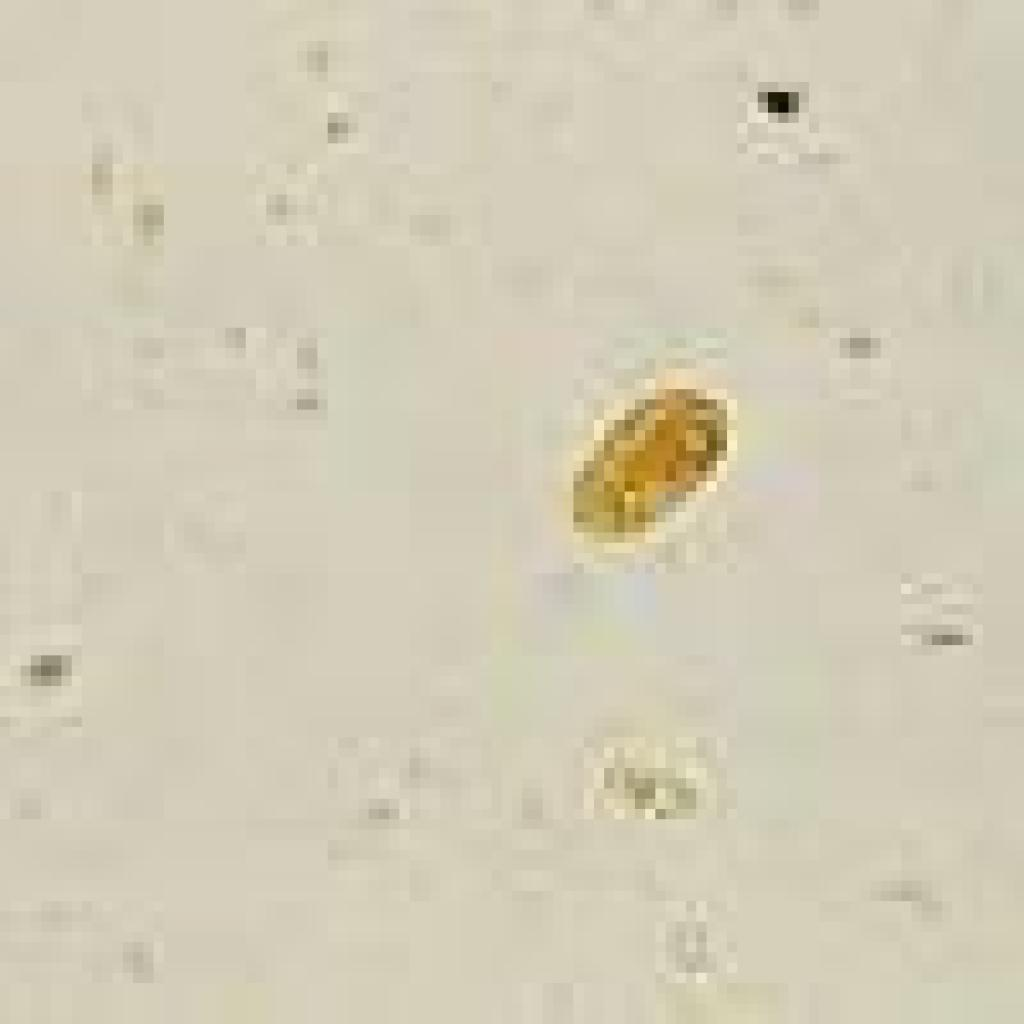Giardia: (553, 369, 747, 553)
